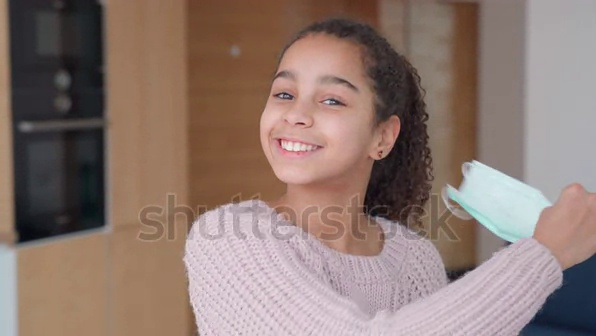No Mask: (249, 111, 365, 185)
